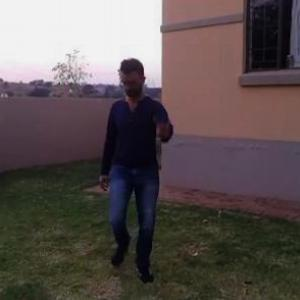takeoff-hand: (150, 105, 178, 139)
